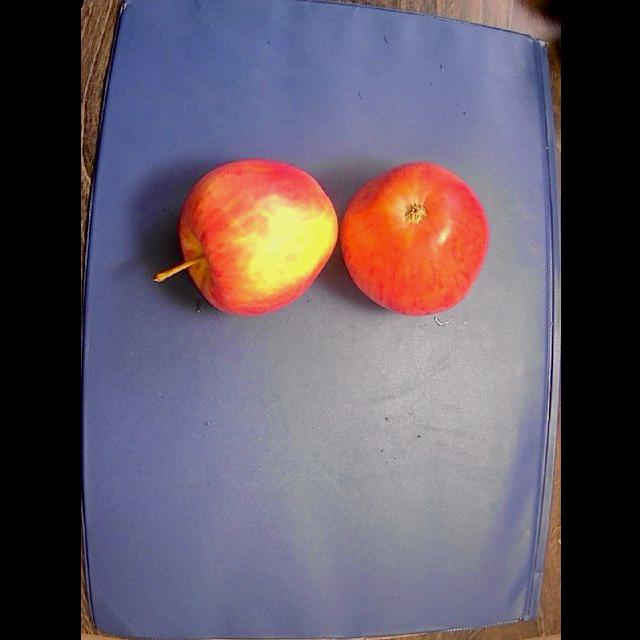manzana: (154, 160, 337, 316), (340, 162, 489, 316)
